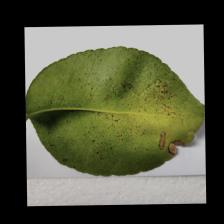canker: (119, 70, 188, 166)
